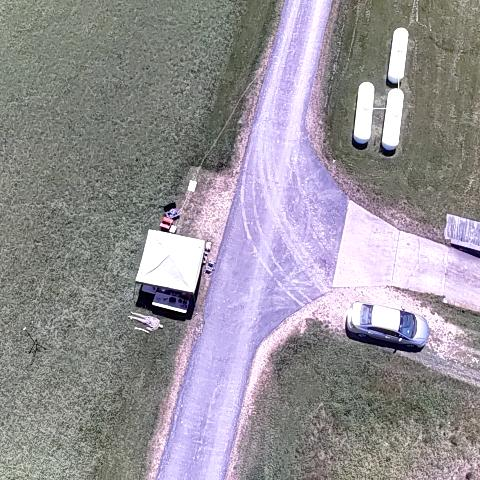person: (126, 310, 164, 331)
